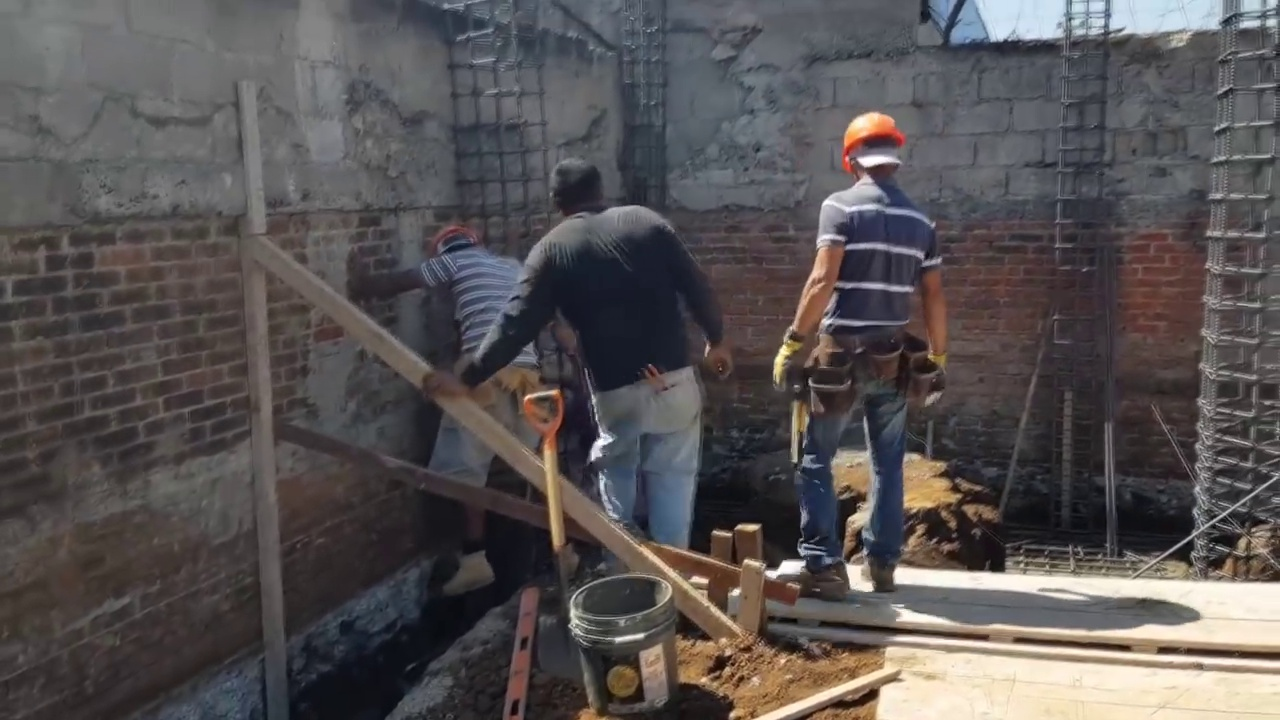helmet: (844, 110, 916, 170), (431, 221, 479, 251)
helmet-off: (547, 155, 606, 223)
helmet-on: (848, 112, 911, 193), (431, 221, 480, 257)
person: (431, 148, 733, 558), (781, 116, 944, 613), (367, 221, 531, 599)
